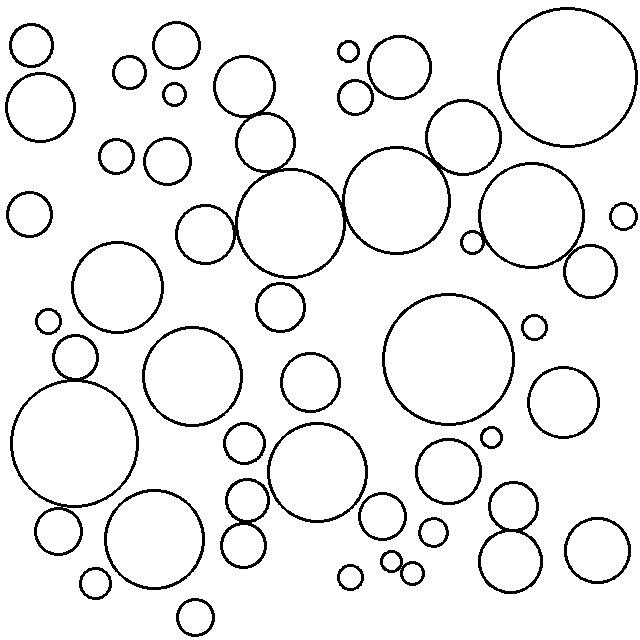circle: (495, 5, 640, 150), (380, 289, 518, 429), (9, 377, 141, 511), (233, 165, 347, 281), (341, 143, 453, 257), (476, 159, 584, 270), (103, 485, 208, 593), (266, 419, 369, 526), (142, 324, 245, 429), (68, 238, 167, 336), (423, 98, 500, 178), (526, 363, 602, 442), (5, 71, 78, 146), (413, 435, 484, 508), (563, 514, 633, 587), (476, 527, 546, 596), (210, 52, 279, 120), (366, 32, 434, 101), (277, 347, 341, 414), (174, 200, 237, 268), (233, 111, 298, 174), (560, 241, 619, 302), (253, 280, 309, 334), (150, 19, 204, 73), (487, 479, 541, 533), (357, 488, 409, 543), (31, 506, 85, 557), (5, 188, 57, 240), (142, 136, 195, 187), (220, 519, 270, 570), (8, 19, 56, 71), (51, 332, 102, 380), (223, 477, 272, 525), (220, 419, 267, 466), (335, 75, 376, 117), (175, 597, 216, 637), (110, 52, 150, 92), (97, 137, 136, 178), (77, 565, 115, 602), (416, 516, 452, 550), (519, 311, 552, 344), (334, 562, 367, 594), (608, 198, 638, 233), (34, 305, 65, 337), (160, 80, 189, 110), (458, 228, 487, 257), (335, 36, 363, 64), (377, 547, 405, 575), (399, 560, 427, 587), (478, 425, 505, 452)
